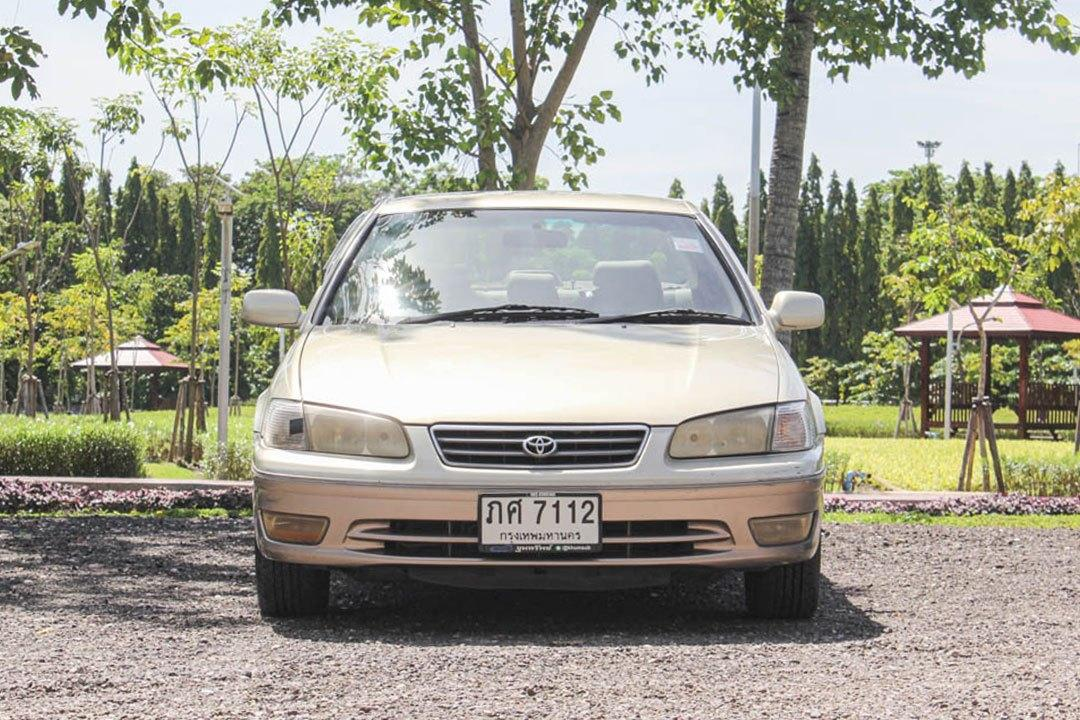license-plate: (477, 493, 603, 560)
